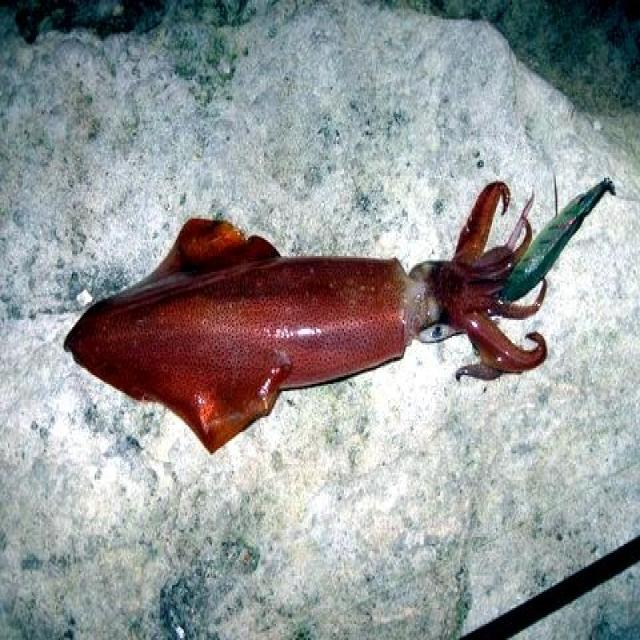SQUID: (55, 162, 577, 468)
